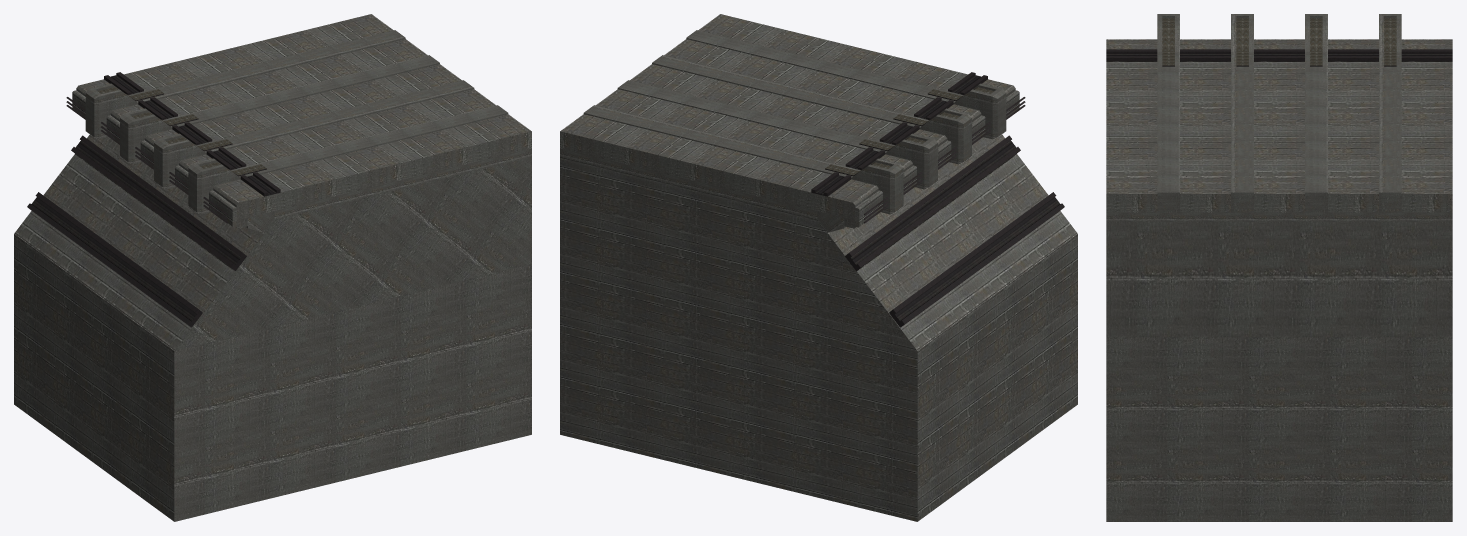
Rendered from wall_tilable.fbx.
3 views of the same model, side by side, from view 1: azimuth 30°, elevation 25°; view 2: azimuth 150°, elevation 25°; view 3: azimuth 270°, elevation 25° (orthographic). The views are drawn at different scales.
Parts seen in each view (by area): view 1: Object; view 2: Object; view 3: Object.
Boxes of the visible parts, box(x1,y1,x2,y2) form: Object: box(14, 14, 531, 521); Object: box(560, 14, 1077, 521); Object: box(1106, 14, 1452, 521).
Size of the model in its own units: 8753 by 7500 by 6800.
